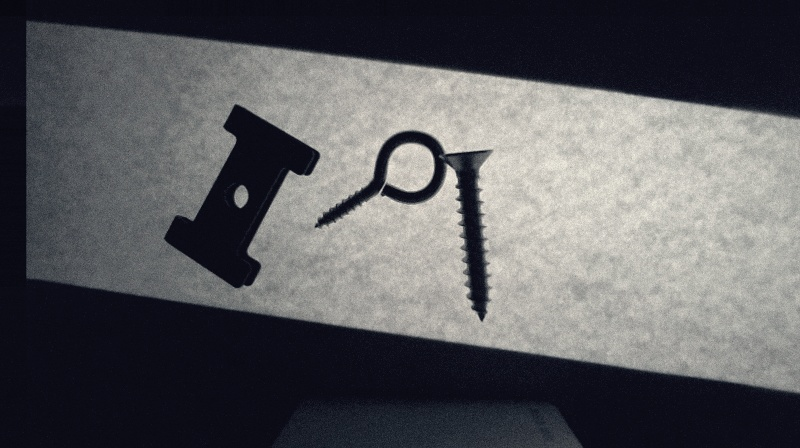O001: (311, 129, 448, 230)
O002: (163, 101, 317, 292)
S001: (438, 145, 496, 322)
